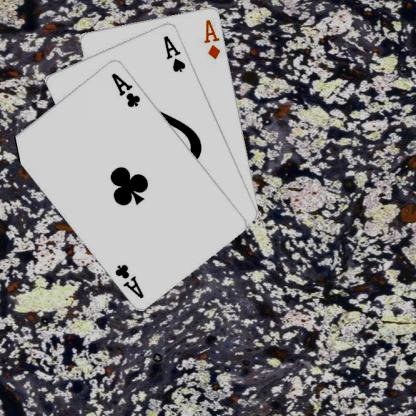AC: (110, 70, 144, 109), (114, 261, 147, 299)
AD: (203, 16, 224, 60)
AS: (162, 33, 188, 73)
